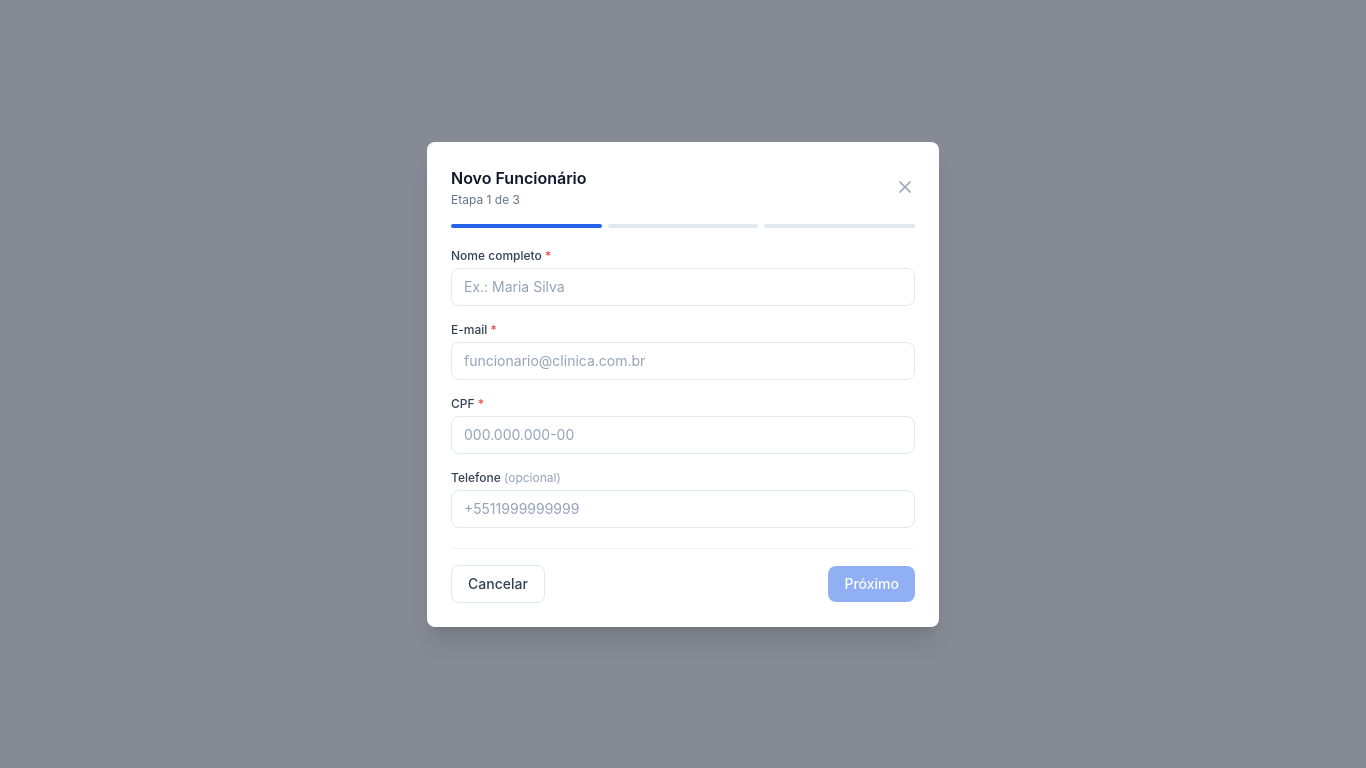
it: AddEmployeeModal › step 2 conditionally shows council fields when role is medico
Type "Ana Lima" into the field labelled "Nome completo *". click: point(683, 286)
box: left=451, top=268, right=915, bottom=306
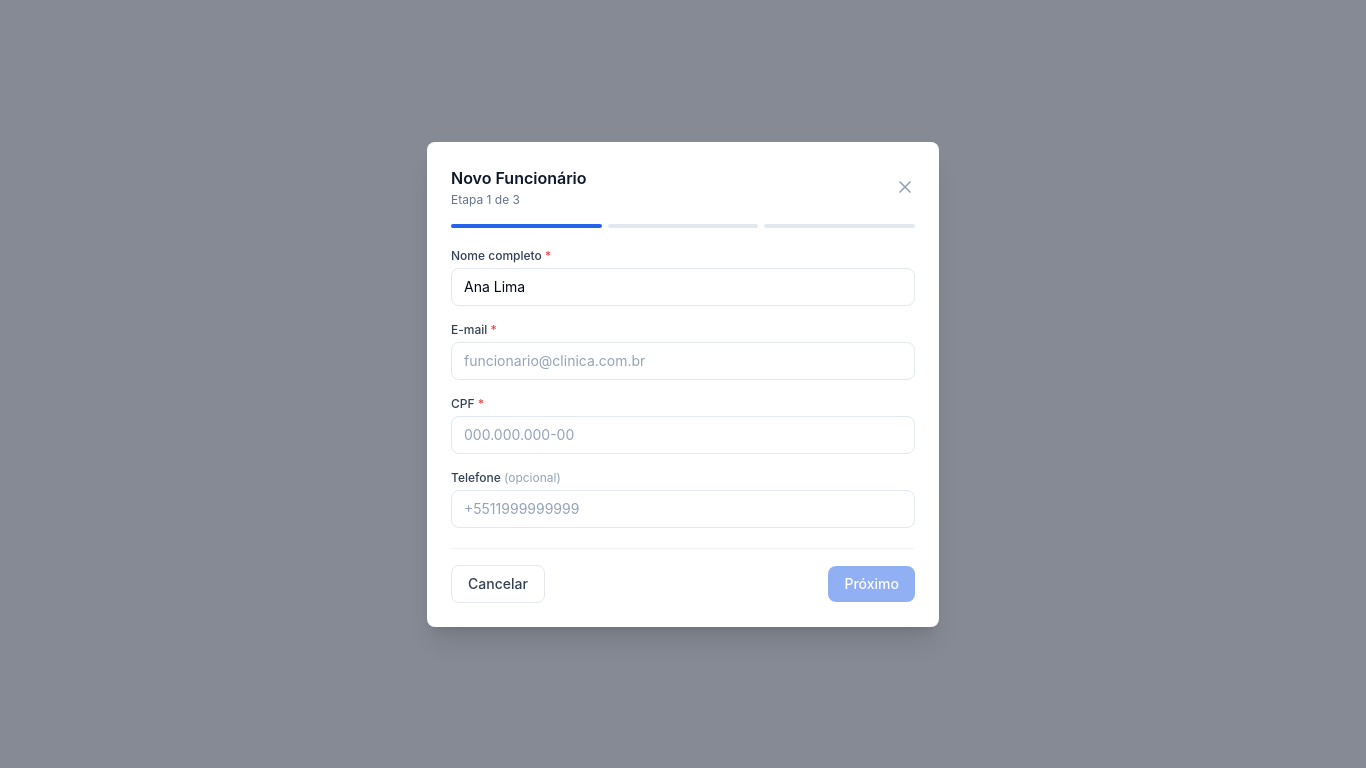
Type "ana@clinica.com.br" into the field labelled "E-mail *". click: point(683, 360)
box: left=451, top=342, right=915, bottom=380
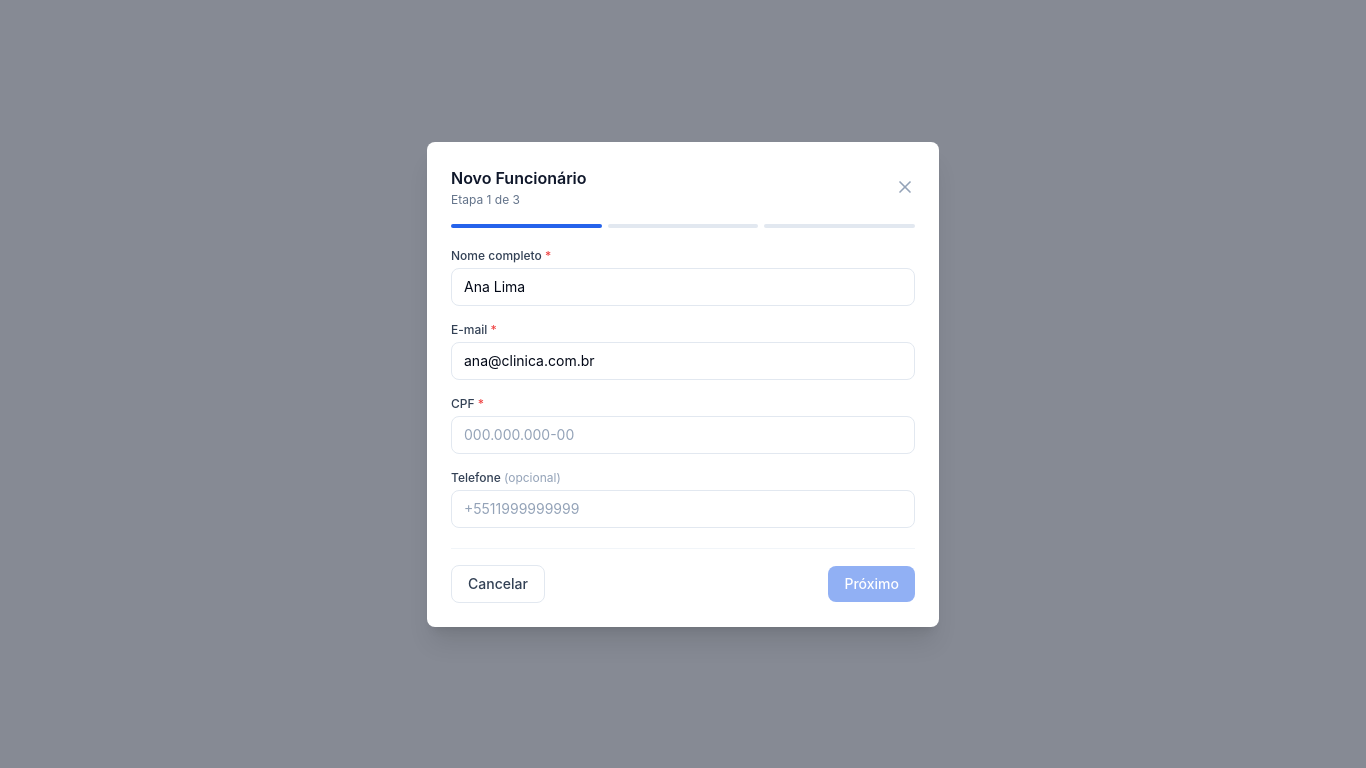
Type "12345678901" into the field labelled "CPF *". click: point(683, 434)
box: left=451, top=416, right=915, bottom=454
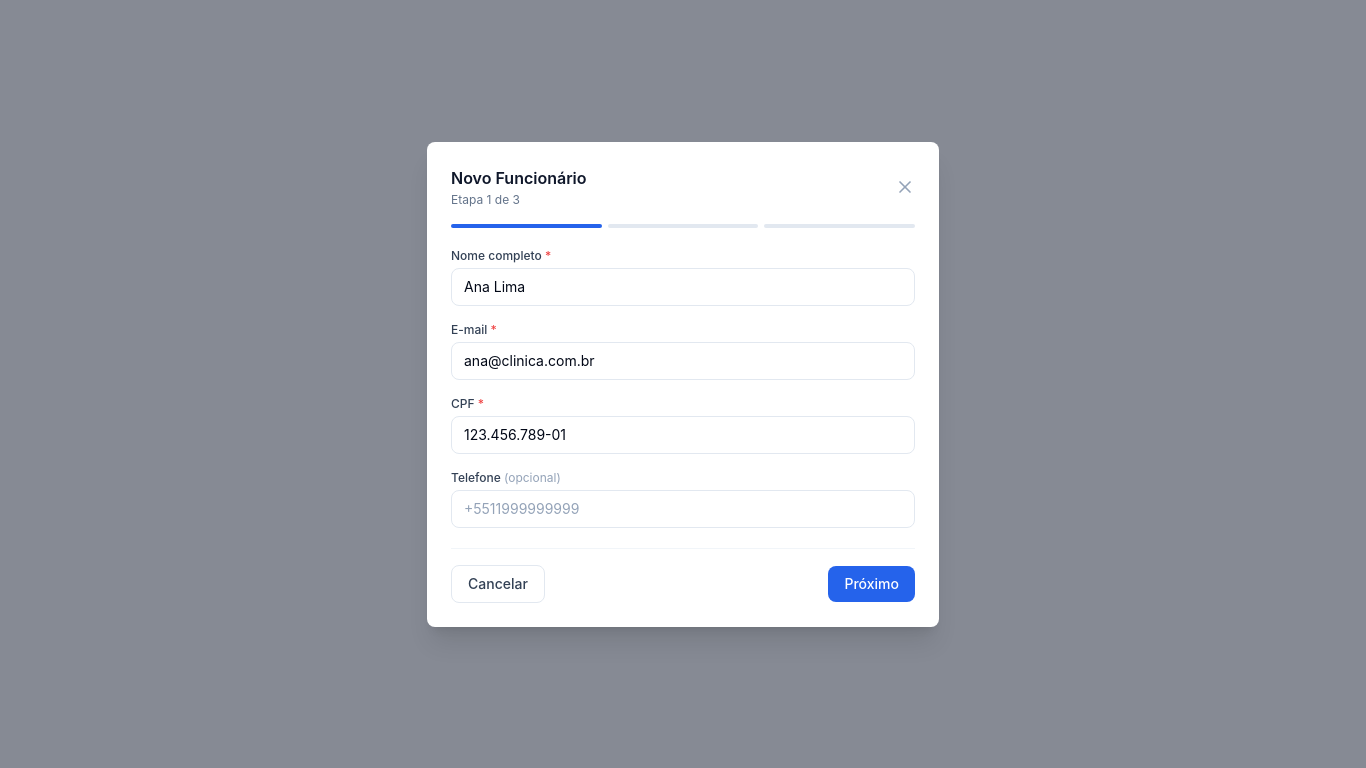
Check: the button "Próximo" is enabled
Click the button "Próximo". click: point(872, 584)
box: left=828, top=566, right=915, bottom=602
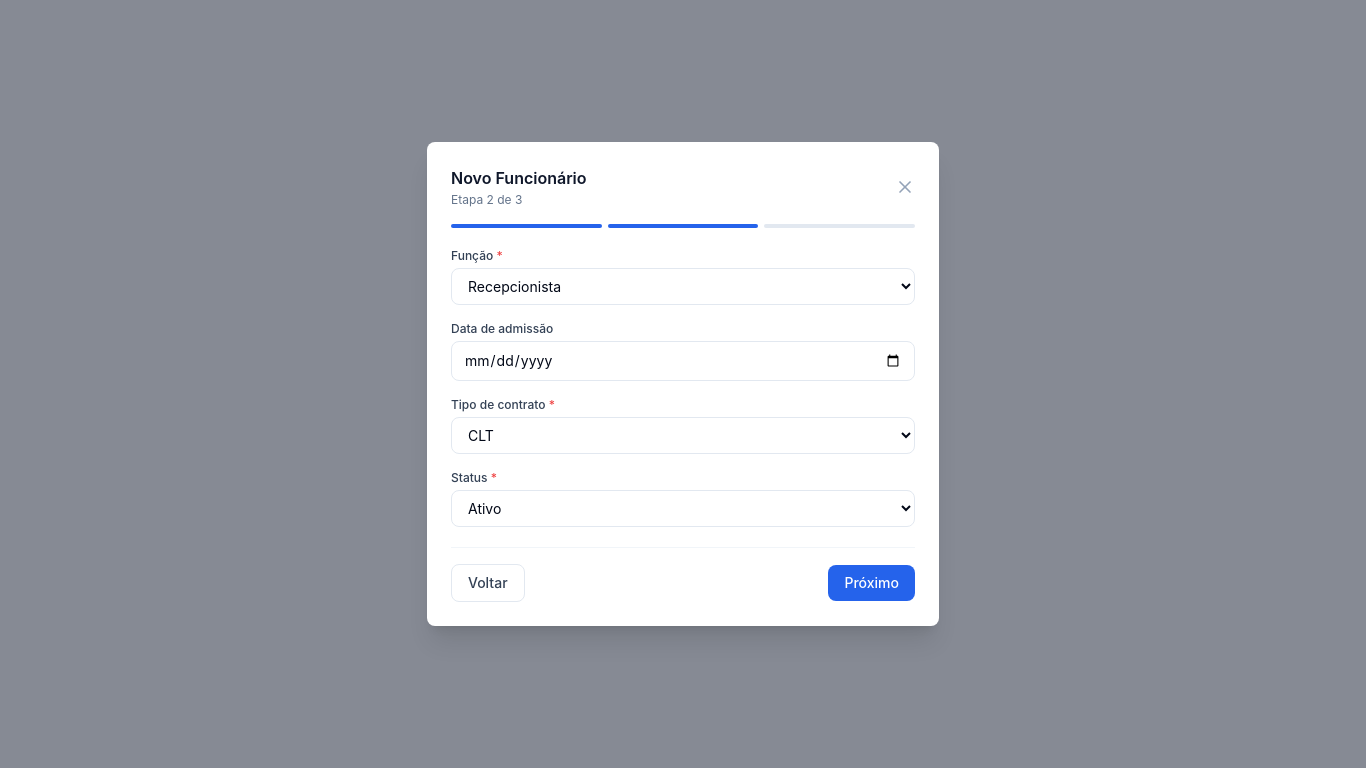
Check: the text "Etapa 2 de 3" is shown, box left=451, top=192, right=522, bottom=207
Select "Médico" in the dropdown labelled "Função *". click: point(683, 286)
box: left=451, top=268, right=915, bottom=305
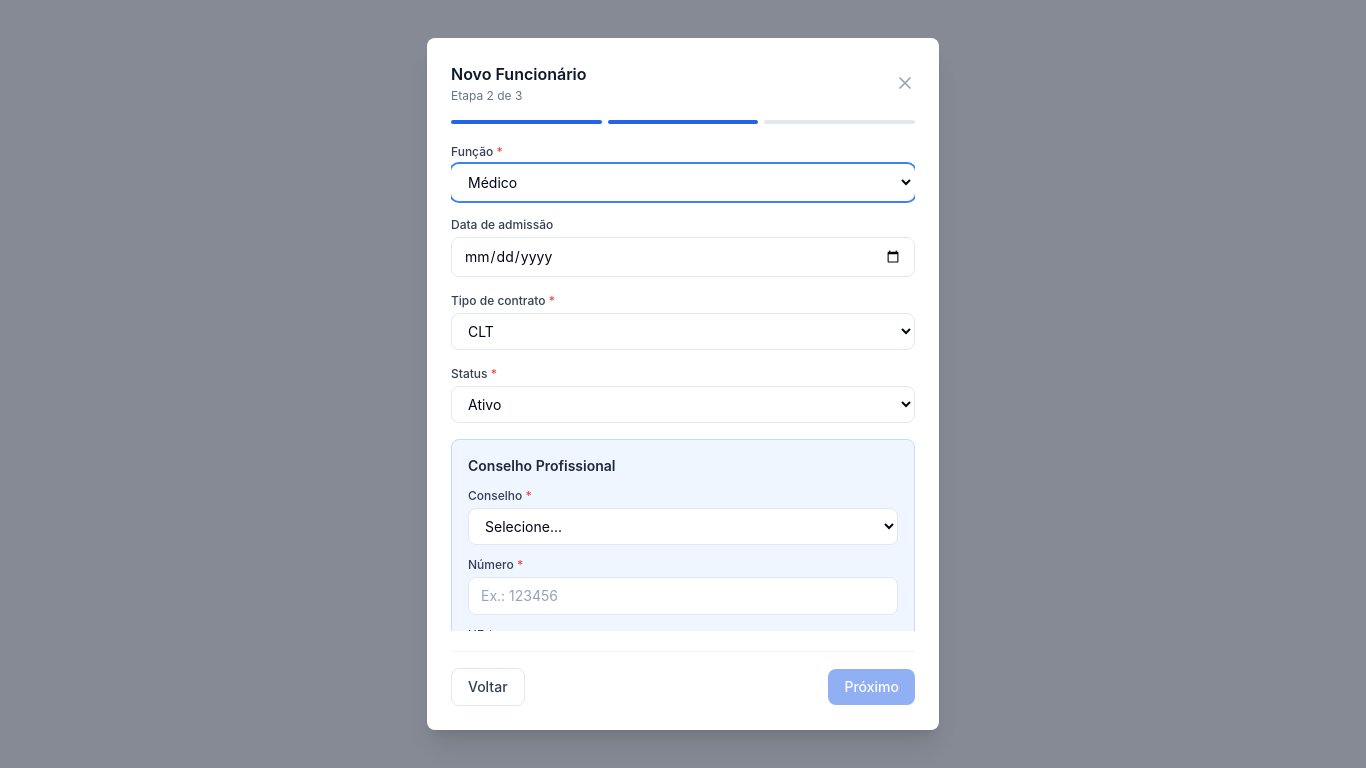
Check: the heading "Conselho Profissional" is shown, box left=468, top=457, right=616, bottom=474
Check: the dropdown labelled "Conselho *" is shown, box left=468, top=508, right=898, bottom=545
Check: the field labelled "Número *" is shown, box left=468, top=577, right=898, bottom=615
Select "Administrador" in the dropdown labelled "Função *". click: point(683, 183)
box: left=451, top=164, right=915, bottom=201
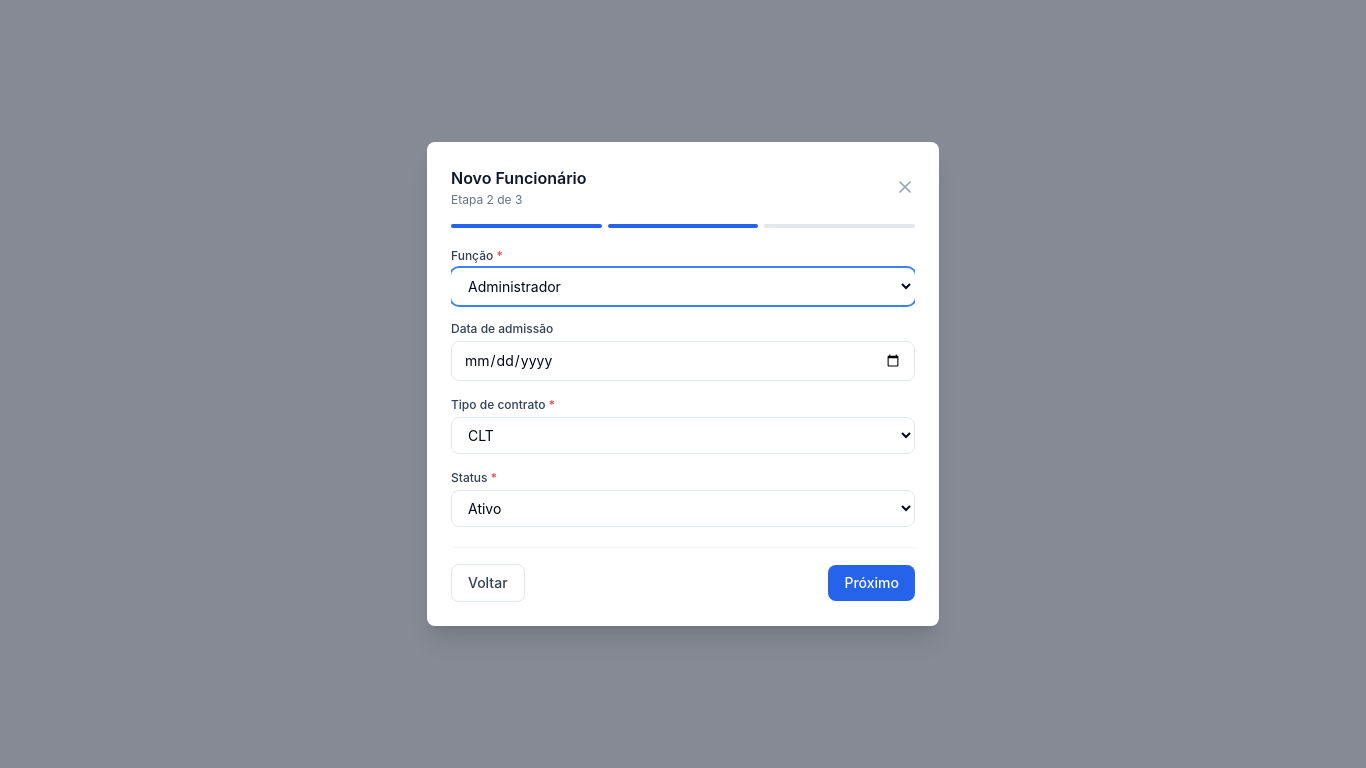
Check: the heading "Conselho Profissional" is gone
